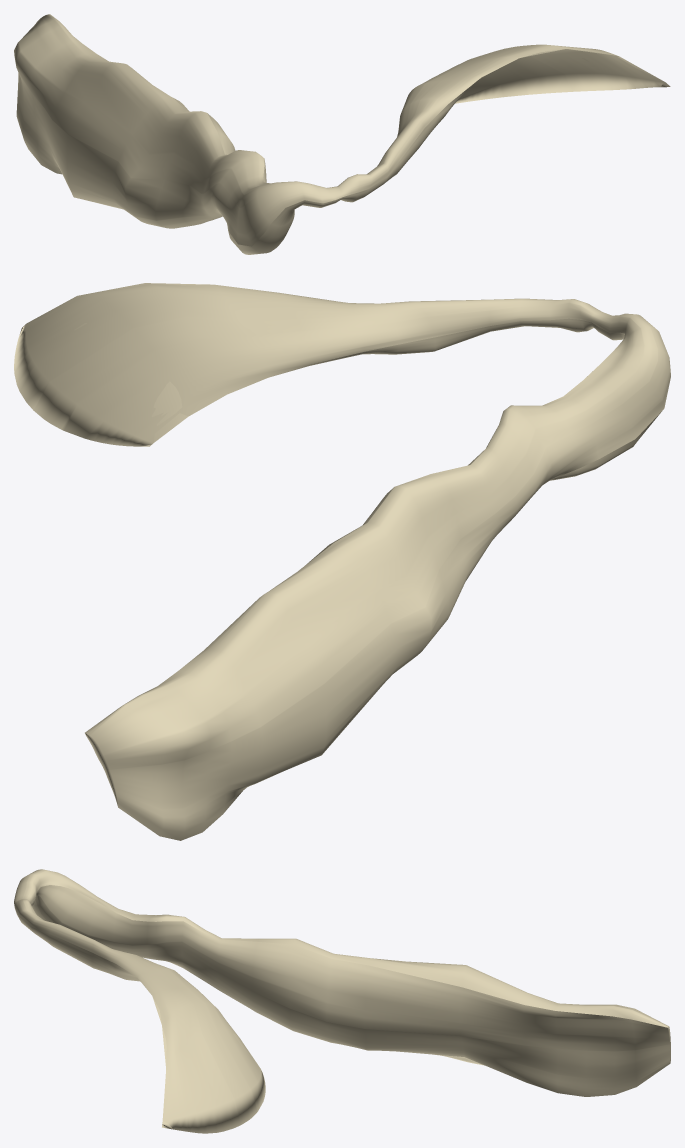
Rendered from super_obl_muscle.obj.
The picture shows the model from 3 angles, top to bottom: view 1: azimuth 30°, elevation 25°; view 2: azimuth 150°, elevation 25°; view 3: azimuth 270°, elevation 25°; orthographic projection. The views are drawn at different scales.
Visible parts, largest first — view 1: Default; view 2: Default; view 3: Default.
Boxes of the visible parts, x1,y1,x2,y2 form: Default: (14, 14, 670, 254); Default: (14, 283, 670, 840); Default: (14, 869, 670, 1133).
Size of the model in its own units: 6.01 by 2.71 by 7.93.
